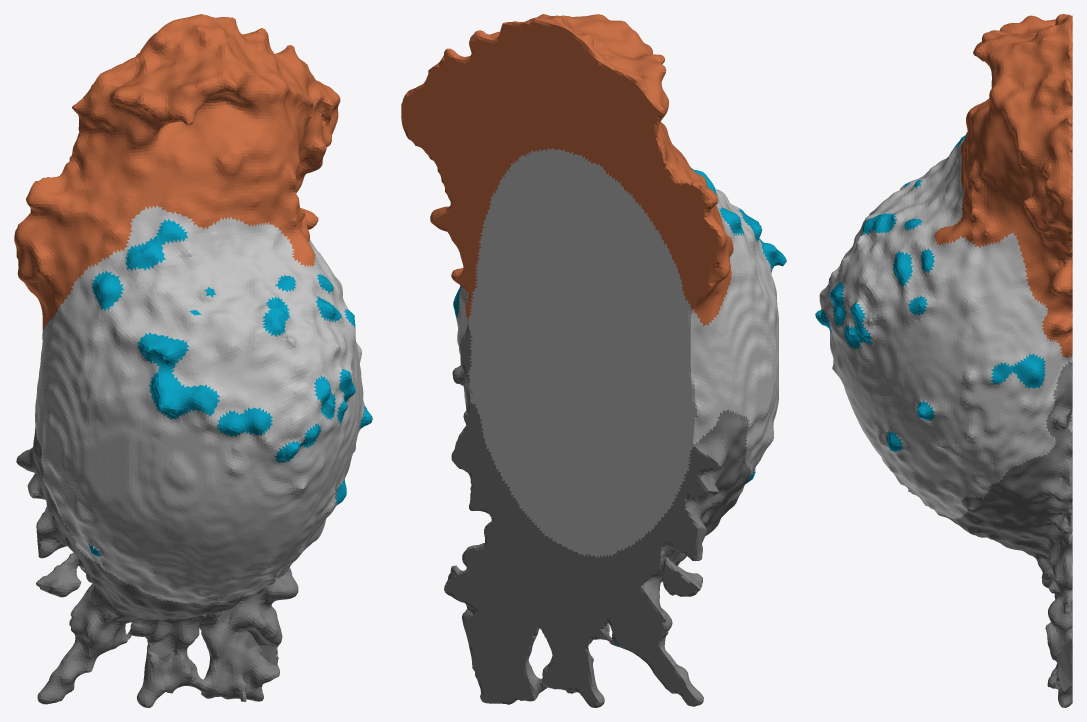
3 renders of one model, left to right at view 1: azimuth 30°, elevation 25°; view 2: azimuth 150°, elevation 25°; view 3: azimuth 270°, elevation 25°, orthographic. The views are drawn at different scales.
Size of the model in its own units: 88.23 by 183 by 65.09.
